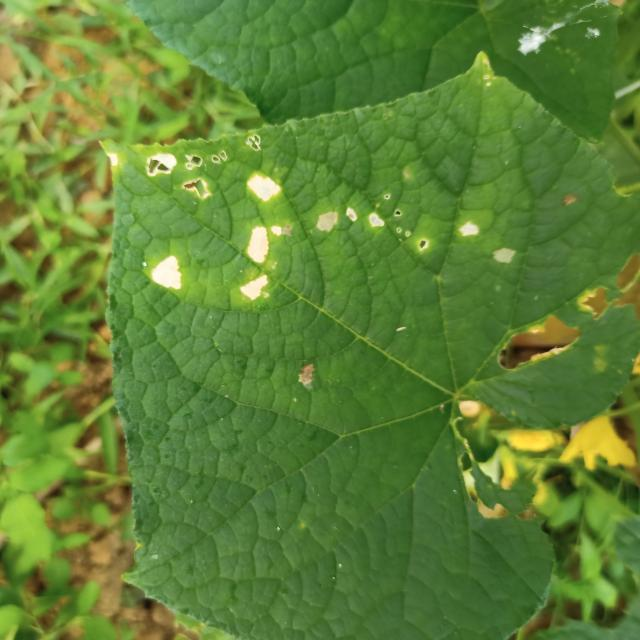disease_cucumber: (109, 132, 301, 316), (312, 161, 536, 288)
